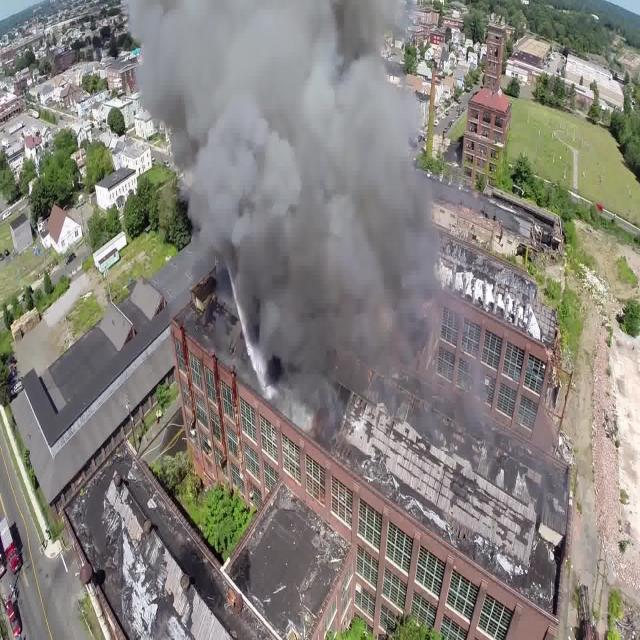Smoke: (113, 4, 496, 457)
